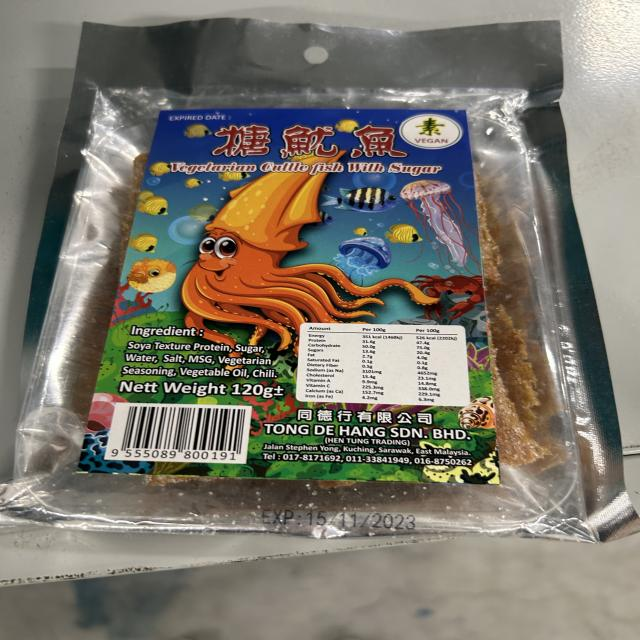object_name: (49, 25, 614, 548)
